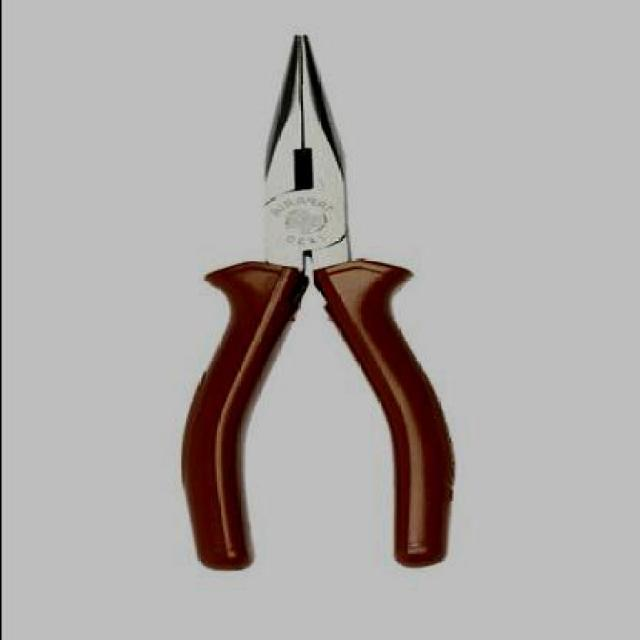pliers: (175, 31, 456, 572)
